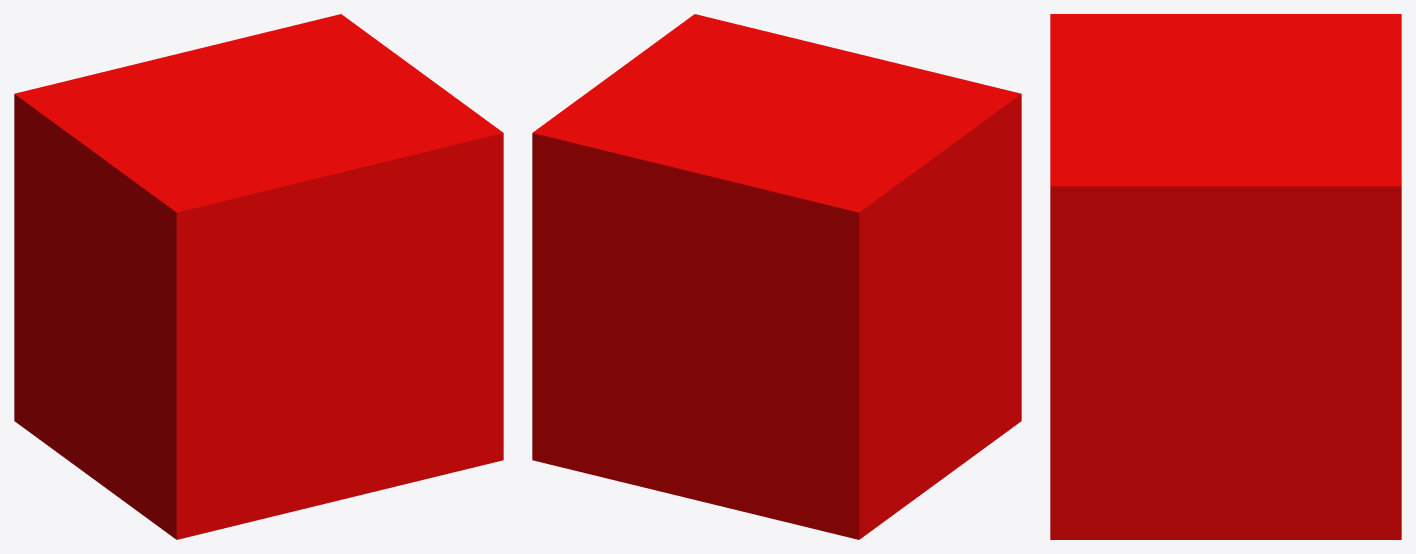
The model's file is cuboid_rv_col.dae.
3 views of the same model, side by side, from view 1: azimuth 30°, elevation 25°; view 2: azimuth 150°, elevation 25°; view 3: azimuth 270°, elevation 25° (orthographic). The views are drawn at different scales.
Visible parts, largest first — view 1: node0; view 2: node0; view 3: node0.
Part boxes in pixels (bbox=[...]): node0: bbox=[14, 14, 503, 539]; node0: bbox=[532, 14, 1021, 539]; node0: bbox=[1050, 14, 1401, 539].
Size of the model in its own units: 0.0233 by 0.0223 by 0.0201.
